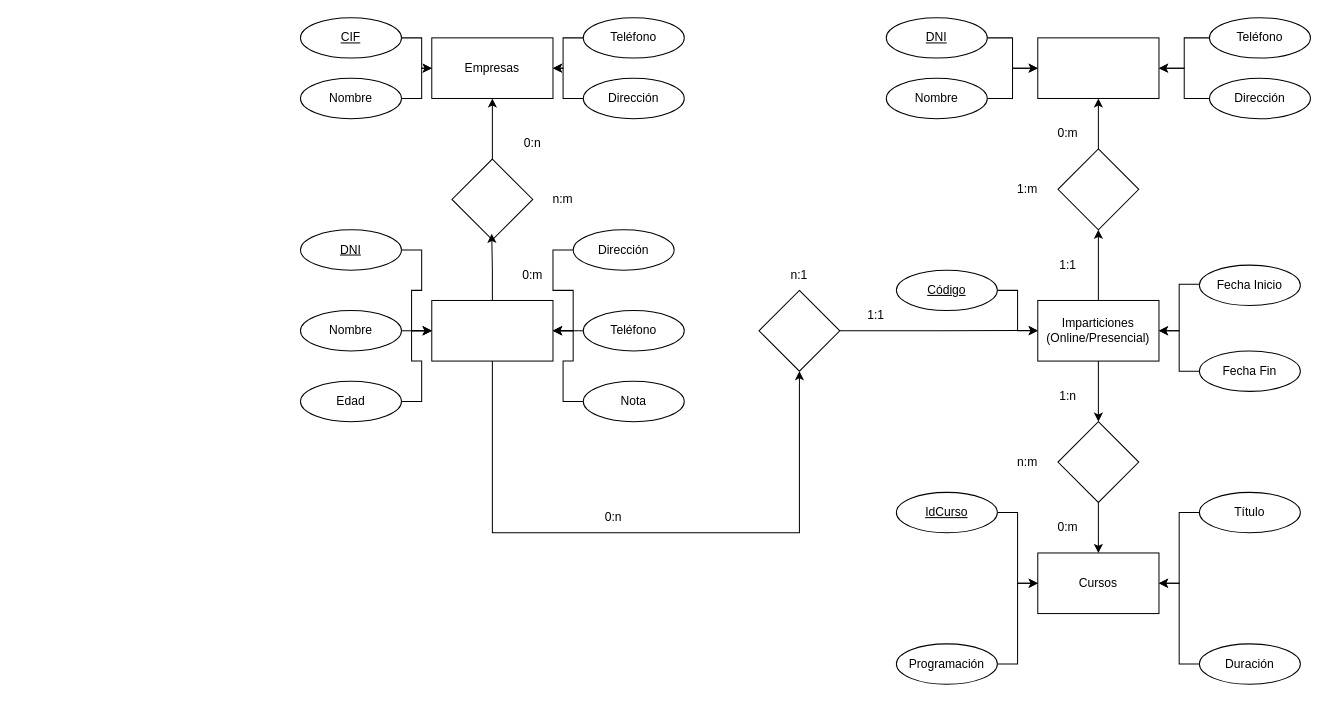
Some shapes in this 1328 by 702 pixel diagram are drawn without their labels. Each missing label, with the centre of its shape:
"Alumnos" goes at point 492,330.
"cursan" goes at point 799,330.
"Dadas" goes at point 1098,189.
"Profesores" goes at point 1098,67.
"Tienen" goes at point 1098,461.
"Trabajan" goes at point 492,199.
